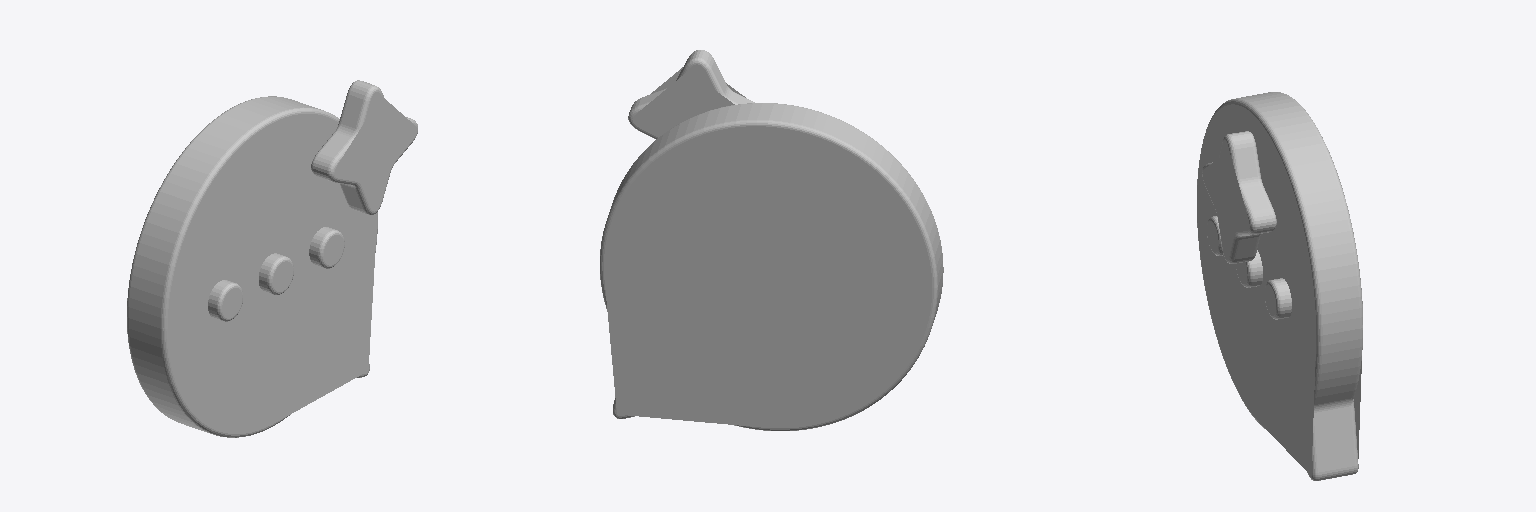
Rendered from balloon.obj.
The picture shows the model from 3 angles: view 1: azimuth 30°, elevation 25°; view 2: azimuth 150°, elevation 25°; view 3: azimuth 270°, elevation 25°; orthographic projection.
Visible parts, largest first — view 1: body, star, circle; view 2: body, star; view 3: body, star, circle.
Boxes of the visible parts, x1=… form: body: x1=127, y1=96, x2=377, y2=437; star: x1=311, y1=80, x2=417, y2=214; circle: x1=208, y1=227, x2=344, y2=321; body: x1=600, y1=103, x2=943, y2=430; star: x1=628, y1=50, x2=754, y2=138; body: x1=1197, y1=92, x2=1362, y2=480; star: x1=1202, y1=131, x2=1276, y2=263; circle: x1=1207, y1=216, x2=1291, y2=319.
Size of the model in its own units: 0.3467 by 0.3684 by 0.1678.